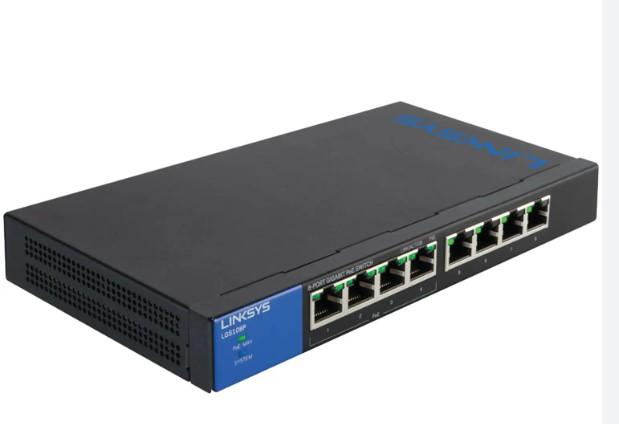NetworkSwitch: (4, 101, 596, 394)
